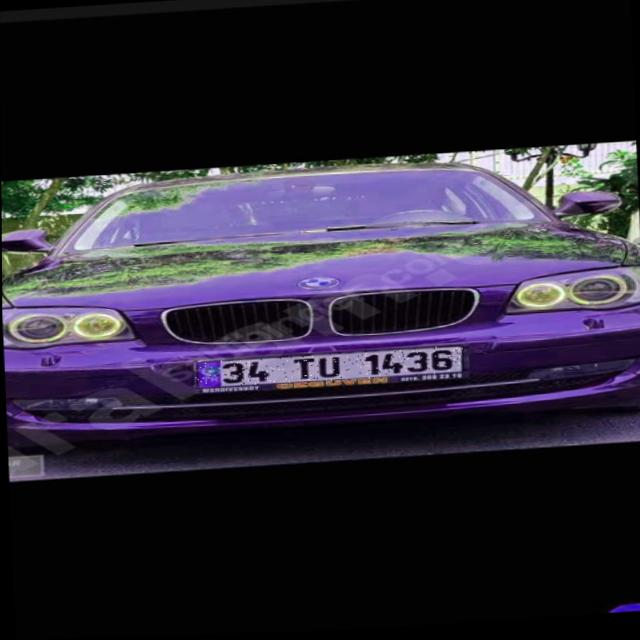license_plate: (193, 347, 466, 391)
